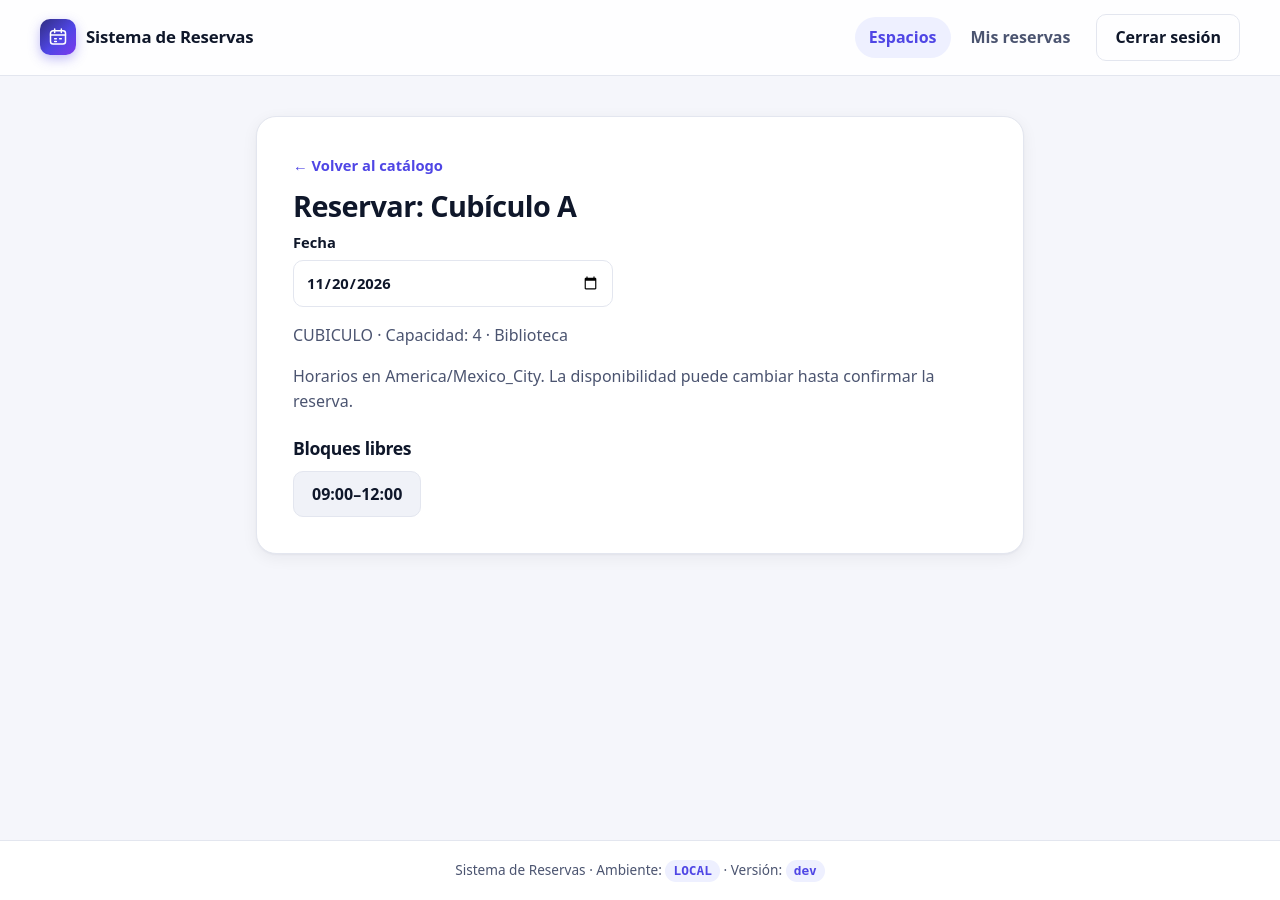
Test: inicio posterior ajusta fin y no permite intervalos vacíos
The image size is (1280, 900).
Click the button "09:00–12:00" at (357, 494), box [293, 471, 421, 518]
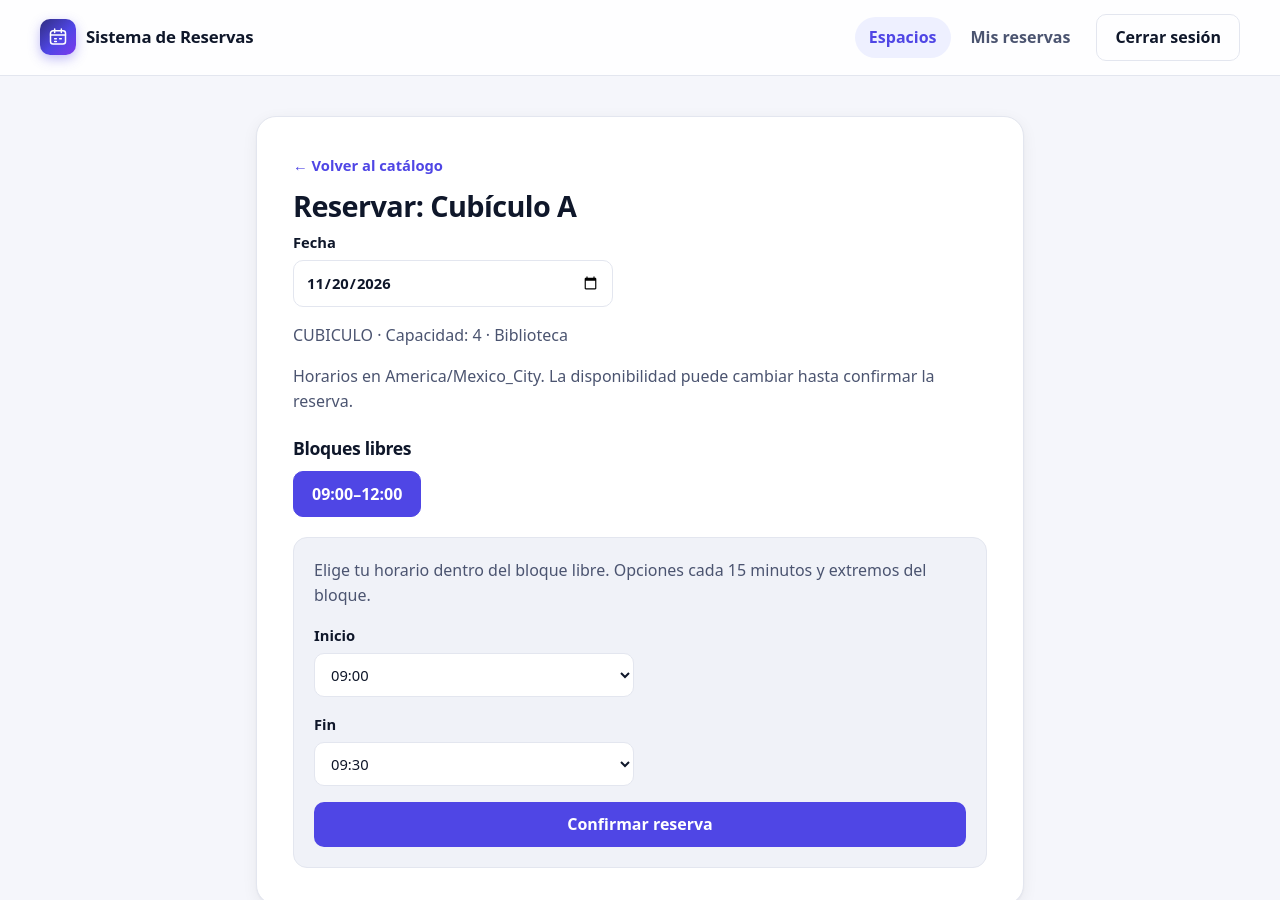
Select "11:45" in the dropdown labelled "Inicio" at (474, 675), box [314, 653, 634, 697]
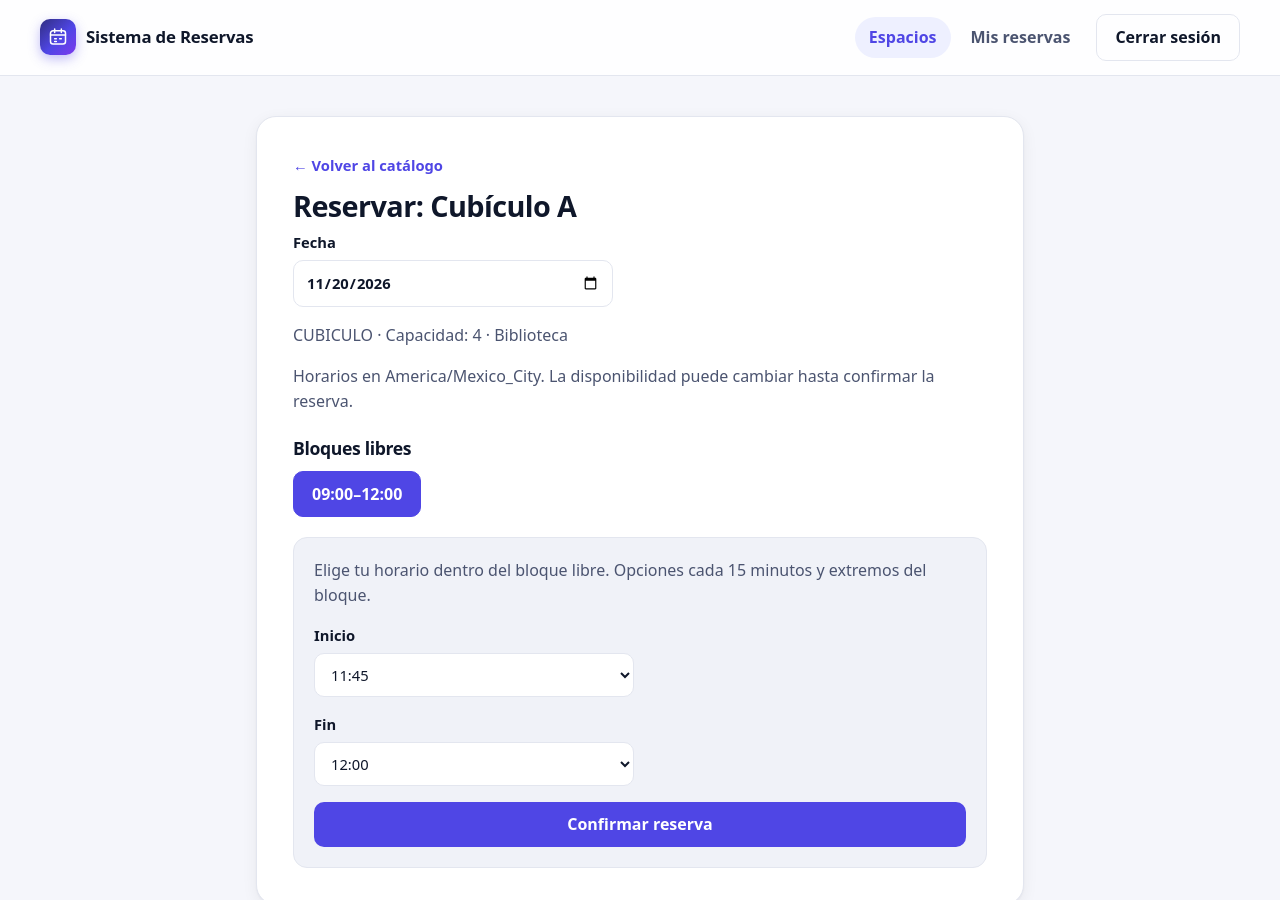
Expected: the dropdown labelled "Fin" shows "12:00", [314, 742, 634, 786]
